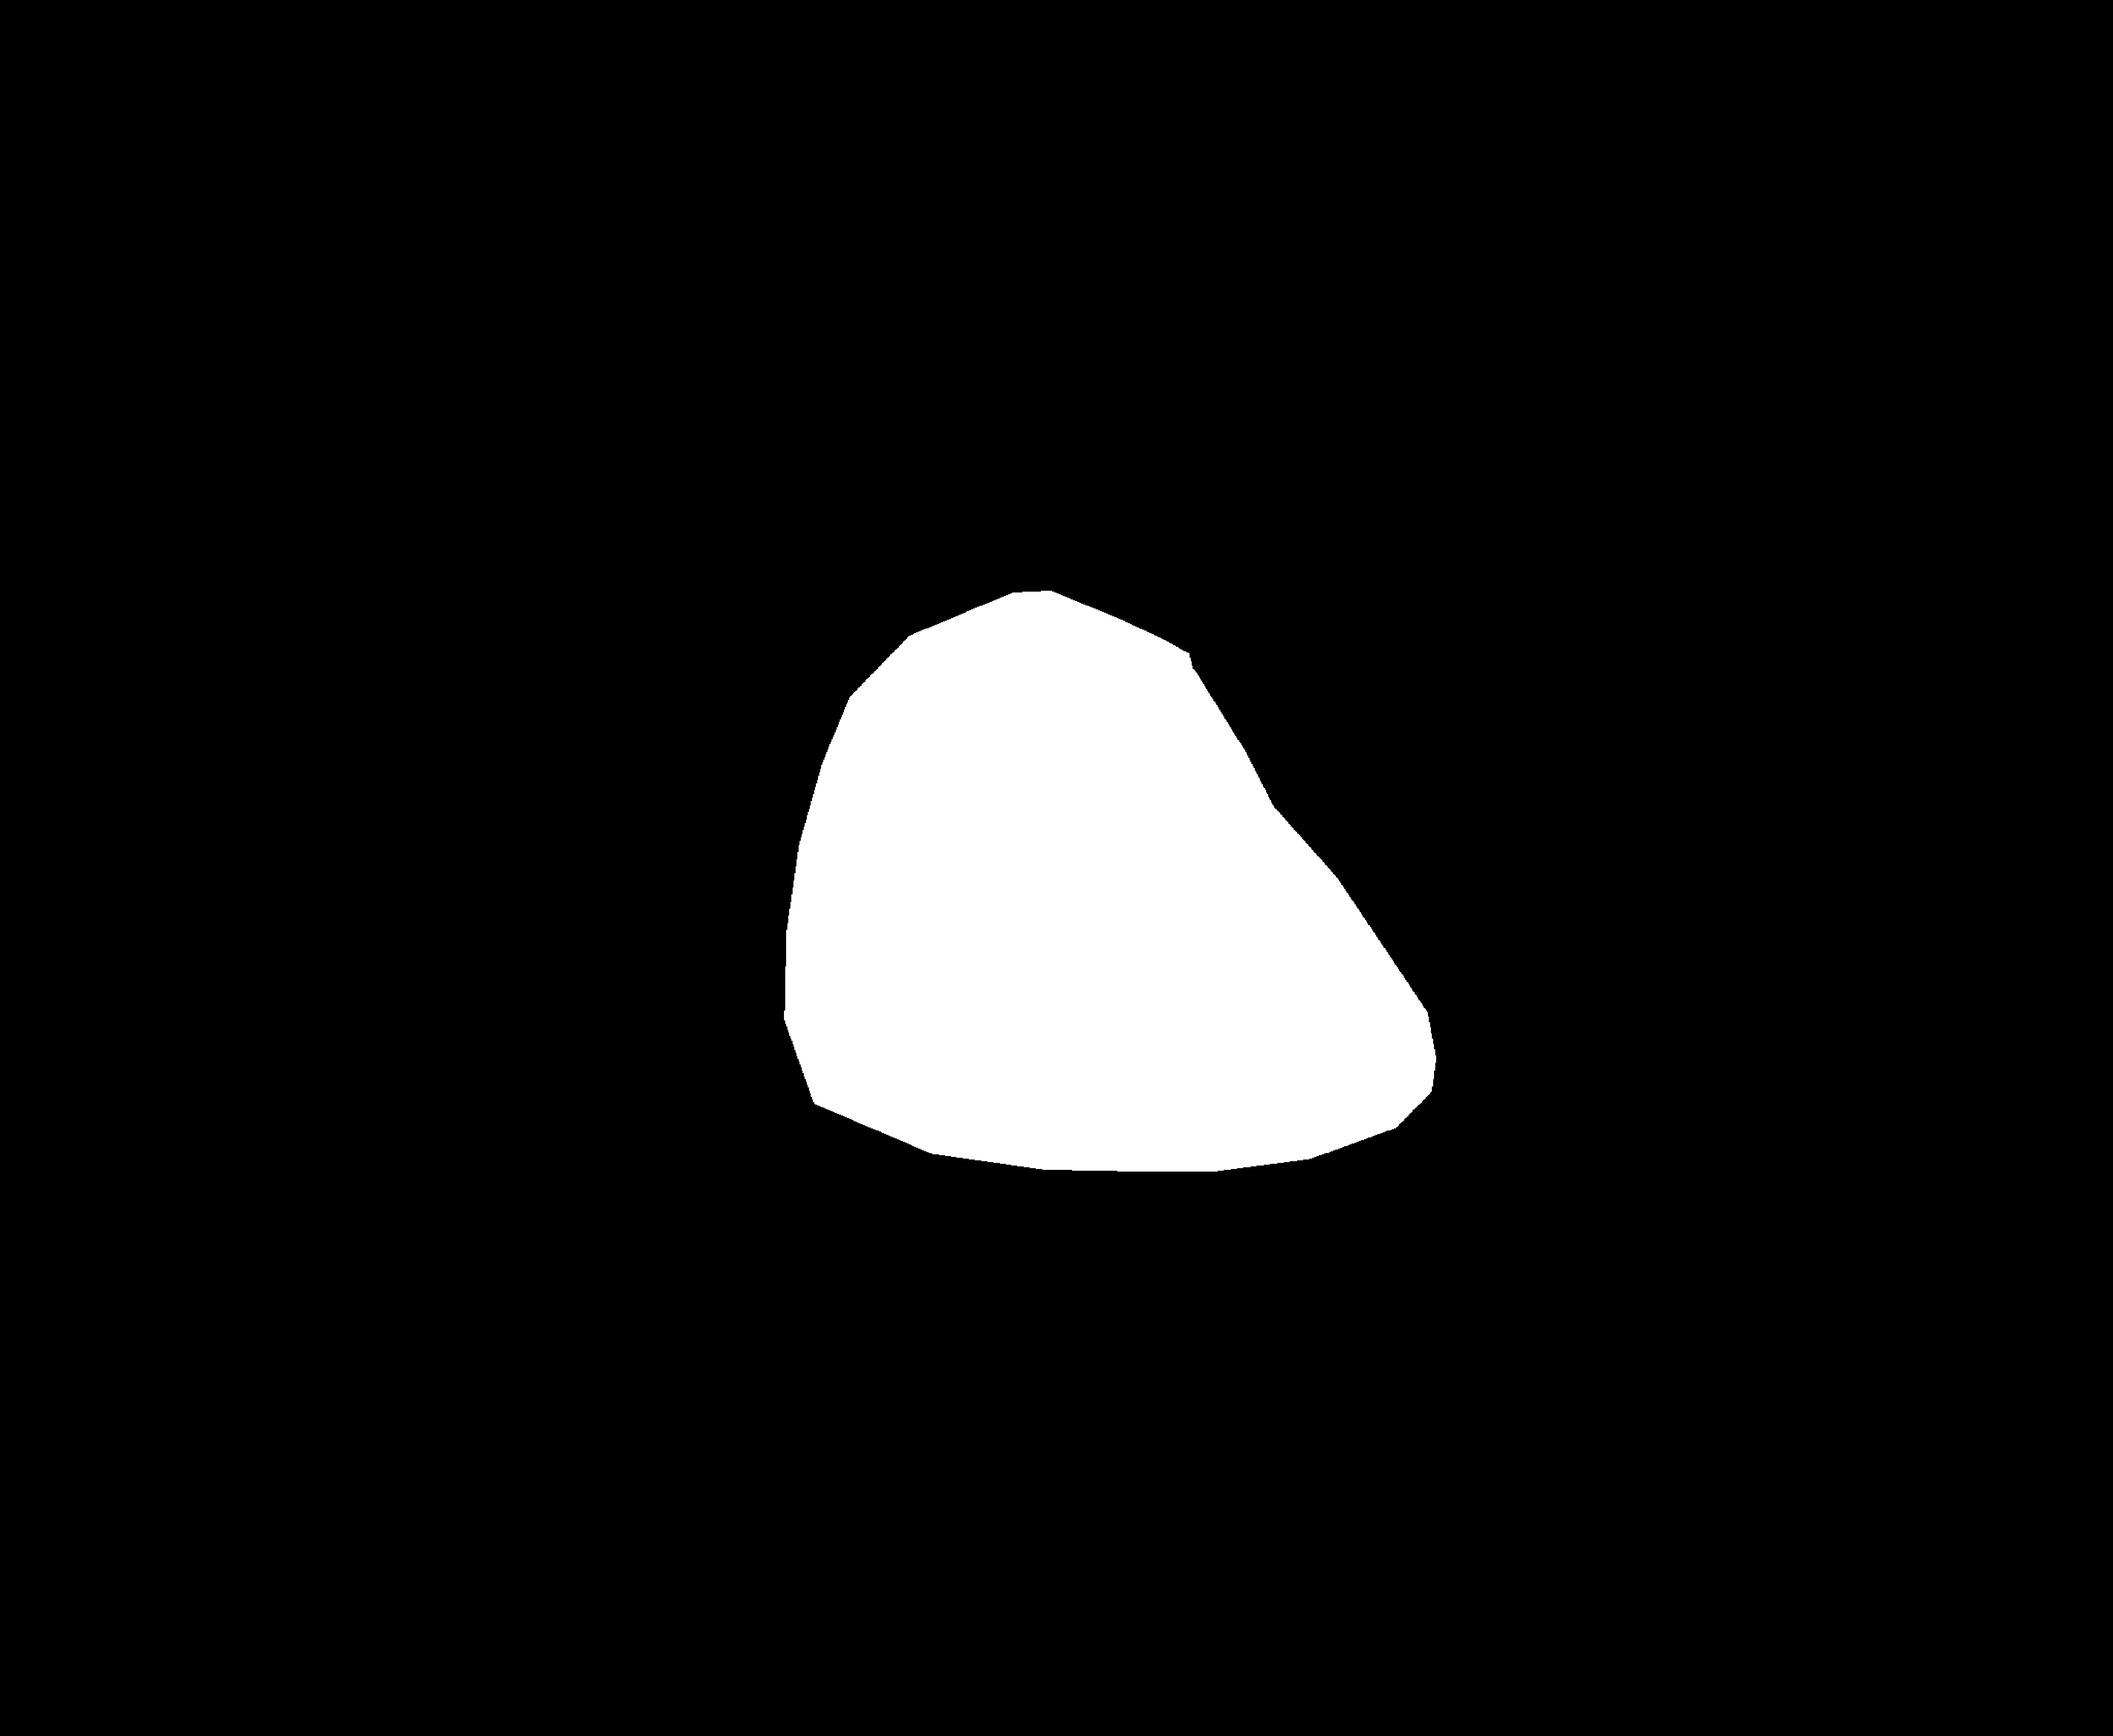heart: (804, 807, 1502, 1227)
left_lung: (323, 223, 886, 1269)
right_lung: (1056, 267, 1564, 1162)
